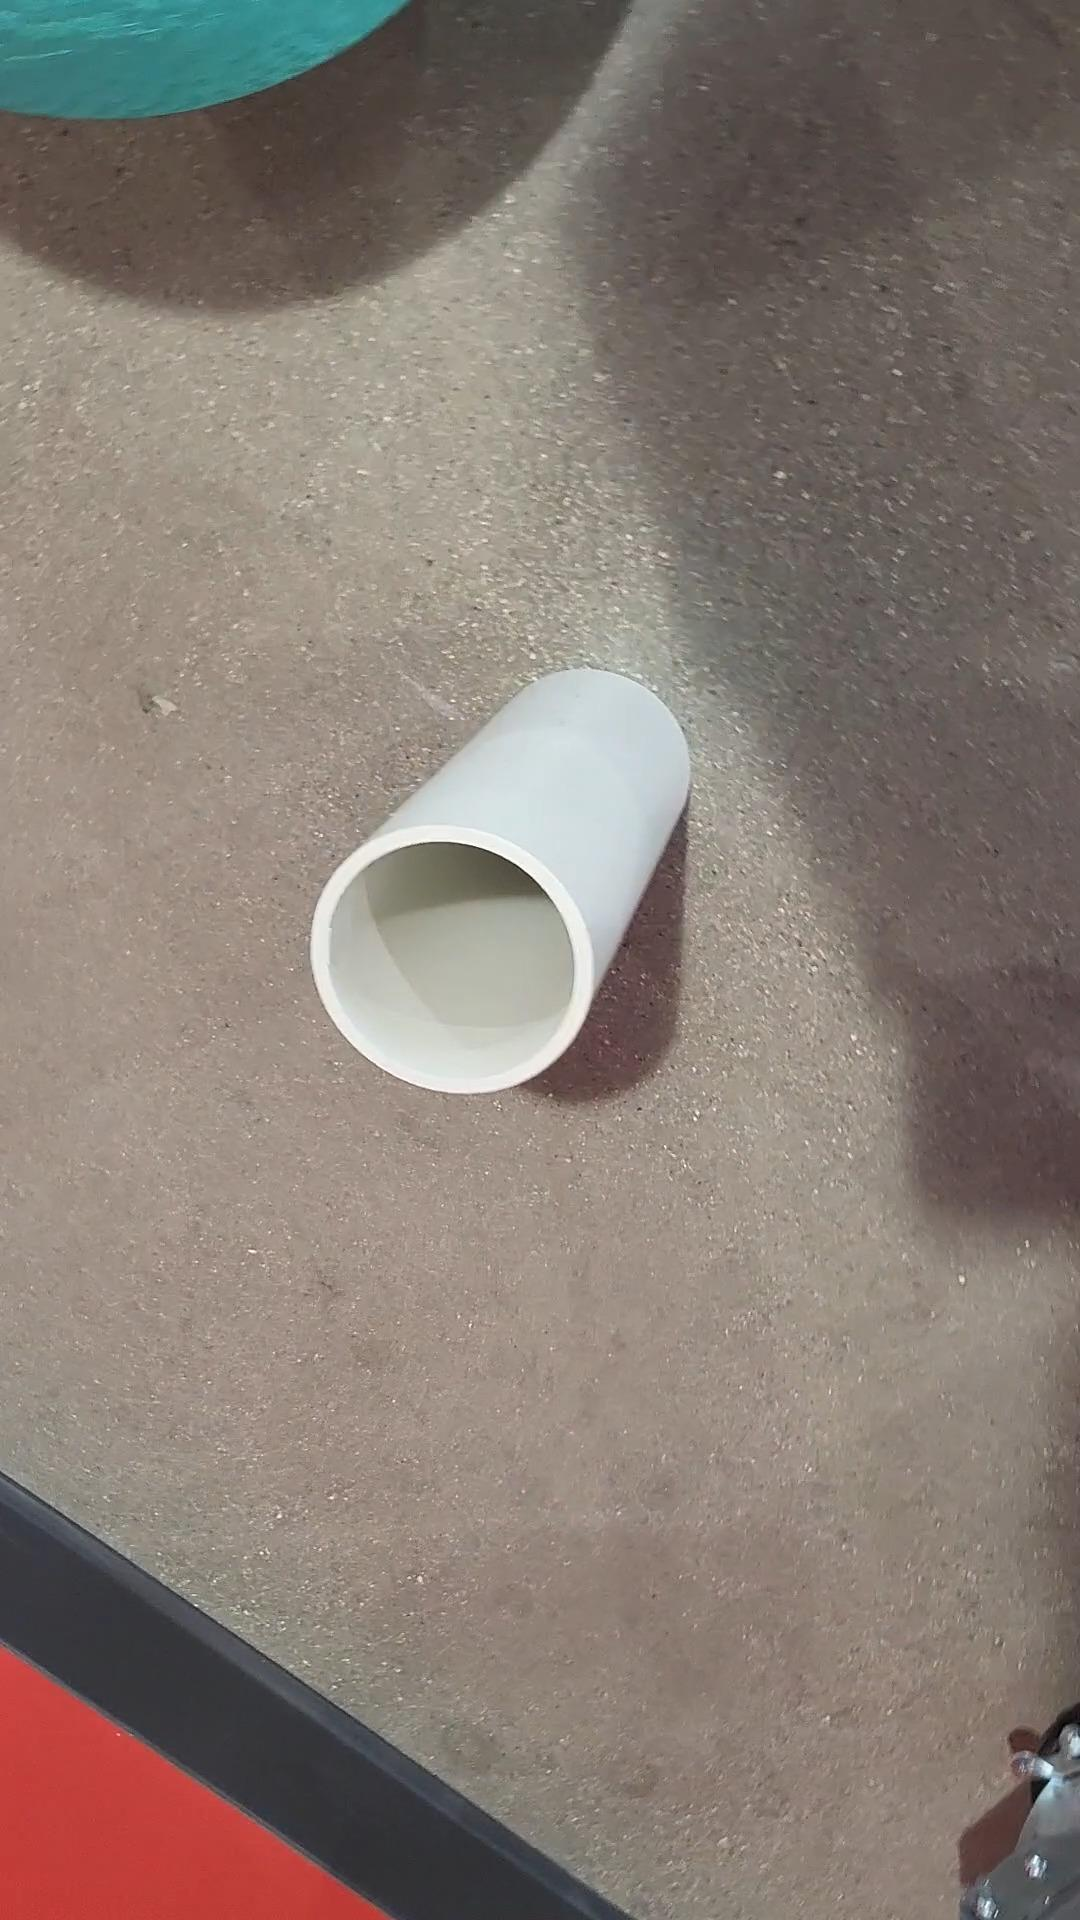algae: (0, 0, 417, 137)
coral: (323, 678, 687, 1097)
